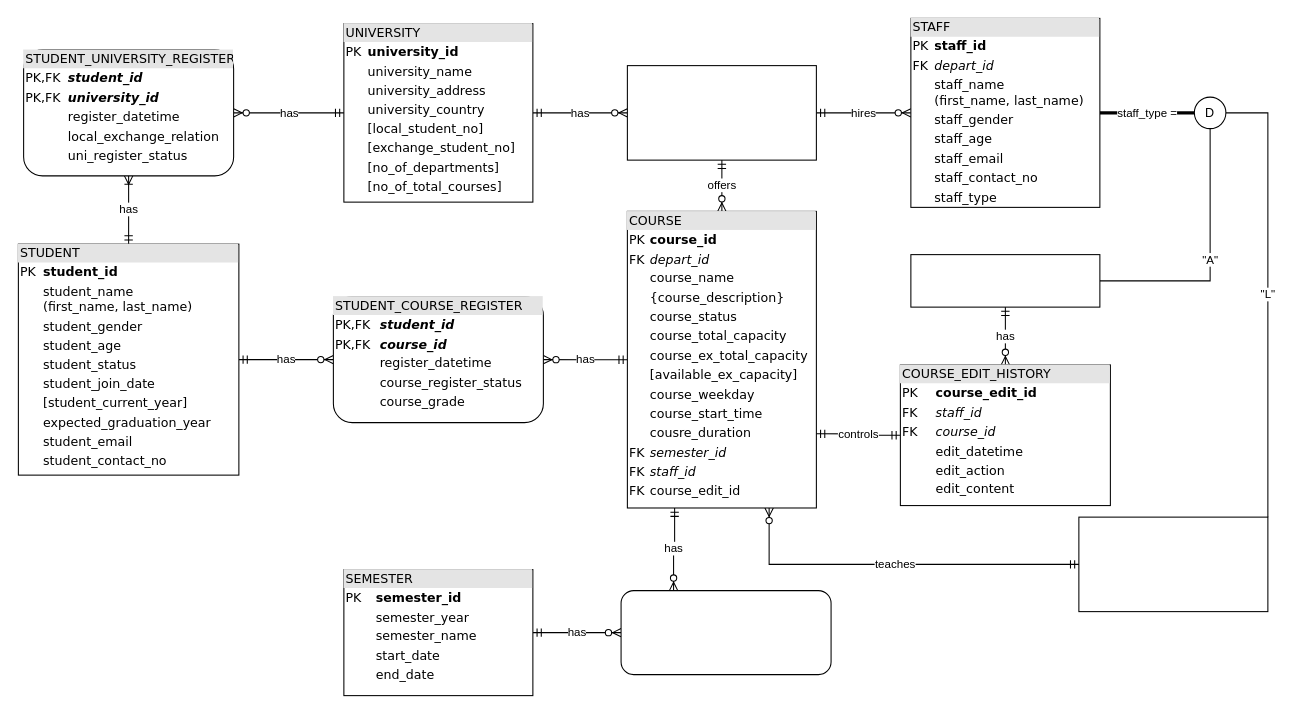
This 1294x714 diagram has some shape labels left out. Here are the shapes that lost their labels. From the top down, the centre of each, then its label:
At [721,112]: "DEPARTMENT PK depart_id FK university_id depart_name".
At [1005,280]: "ADMIN_STAFF {admin_job_duty}".
At [1173,564]: "LECTURER {focus_area} year_of_lecture_experience".
At [725,632]: "COURSE_SEMESTER_REGISTER PK,FK course_id PK,FK semester_id datetime".
